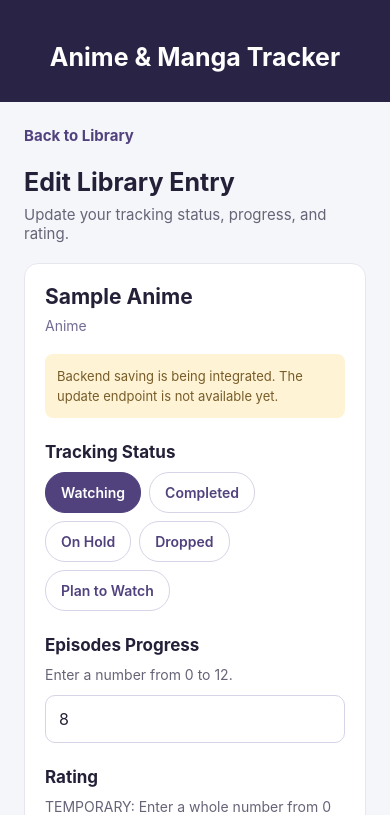
Edit Library Screen › rejects negative progress
Replace the text in the field named "Episodes progress" with "-1" at (195, 719), box left=45, top=695, right=345, bottom=743
(page scrolled)
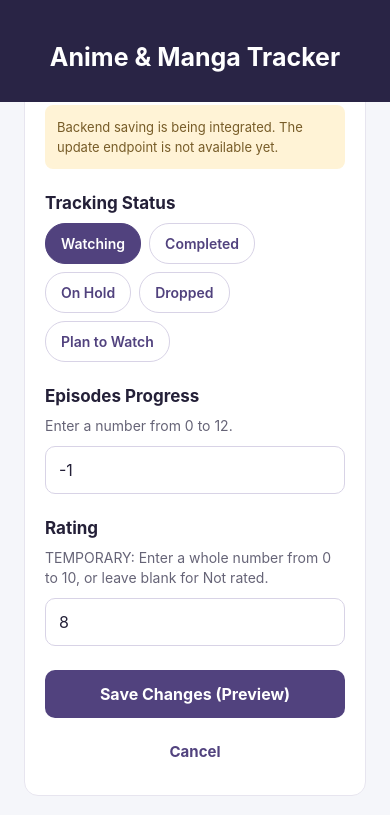
Click the button "Save Changes (Preview)" at (195, 694), box left=45, top=670, right=345, bottom=718
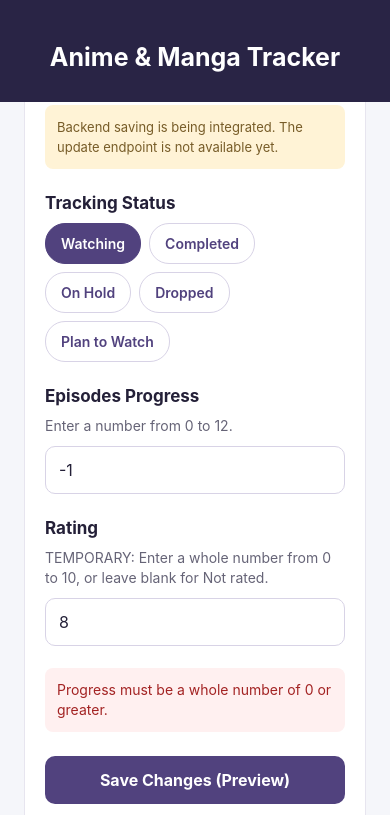
Expected: the text "Progress must be a whole number of 0 or greater." is shown, left=57, top=680, right=333, bottom=720
